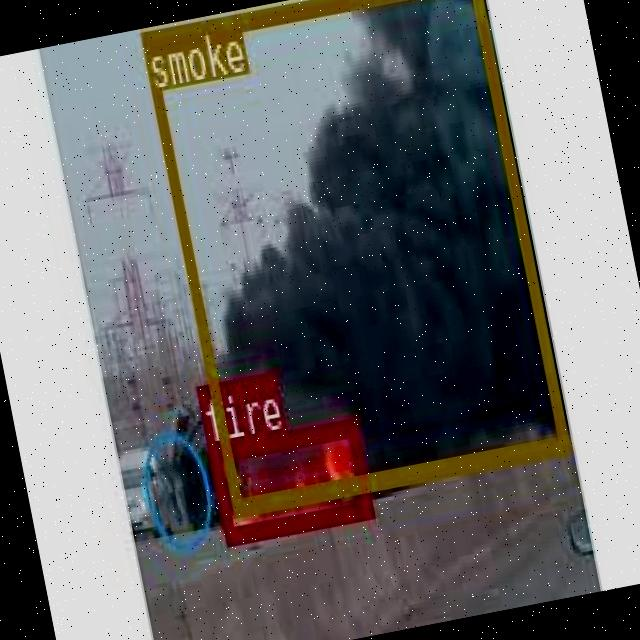fire: (206, 415, 372, 542)
smoke: (139, 0, 567, 514)
